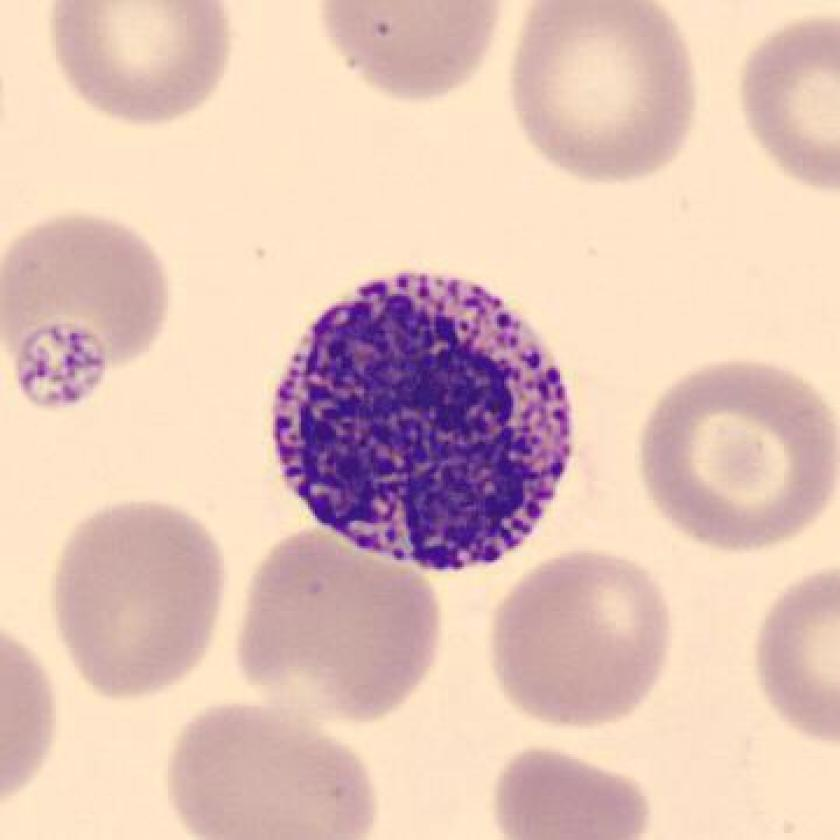basophil: (265, 258, 594, 577)
